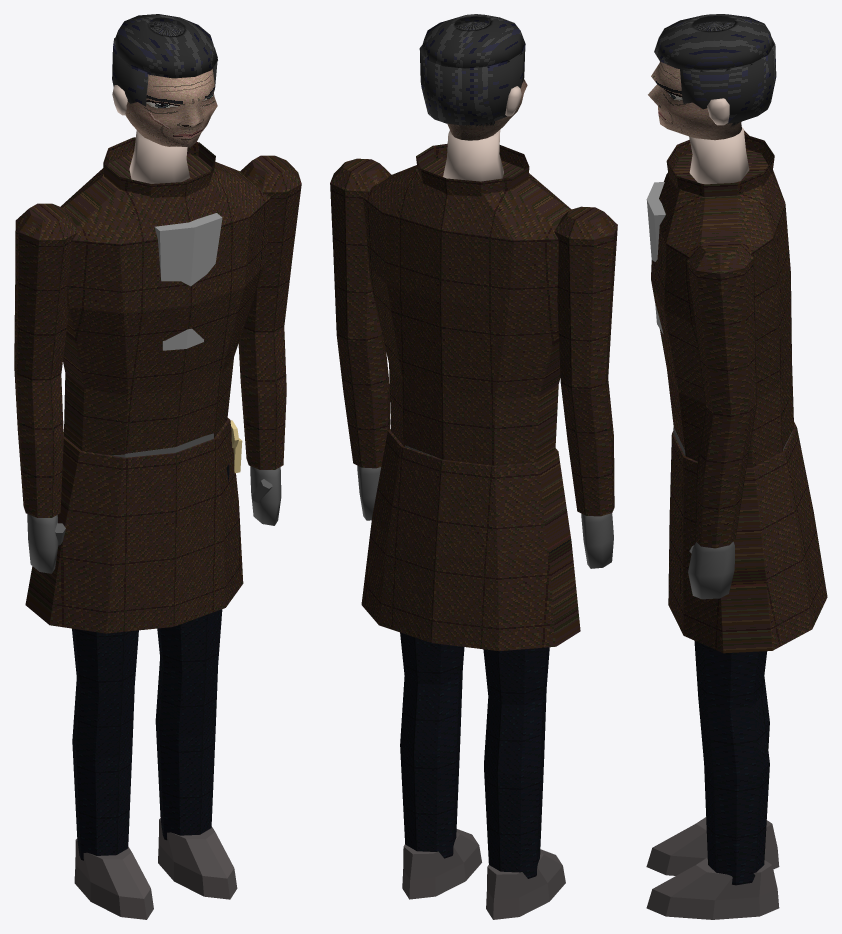
Rendered from char_roman.glb.
The picture shows the model from 3 angles, left to right: view 1: azimuth 30°, elevation 25°; view 2: azimuth 150°, elevation 25°; view 3: azimuth 270°, elevation 25°; orthographic projection.
Parts seen in each view (by area): view 1: JacketTorso, CoatSkirt, ArmSleeve_L, LegL_Pivot_Leg, LegR_Pivot_Leg, ArmSleeve_R, OrganicHeadMesh, HairCroppedCrown, ShirtCollar, LegL_Pivot_Boot, LegR_Pivot_Boot, JacketCollarRim (+4 smaller); view 2: JacketTorso, CoatSkirt, ArmSleeve_L, LegL_Pivot_Leg, ArmSleeve_R, LegR_Pivot_Leg, HairCroppedSides, HairCroppedCrown, LegR_Pivot_Boot, LegL_Pivot_Boot, JacketCollarRim, NeckOrganic (+3 smaller); view 3: JacketTorso, CoatSkirt, ArmSleeve_R, LegR_Pivot_Leg, LegR_Pivot_Boot, HairCroppedCrown, HairCroppedSides, OrganicHeadMesh, LegL_Pivot_Boot, NeckOrganic, Hand_R, JacketCollarRim (+2 smaller).
Part boxes in pixels (left/top/right/bottom): JacketTorso: left=60, top=153, right=270, bottom=455; CoatSkirt: left=25, top=418, right=243, bottom=633; ArmSleeve_L: left=14, top=203, right=77, bottom=517; LegL_Pivot_Leg: left=72, top=628, right=138, bottom=860; LegR_Pivot_Leg: left=155, top=464, right=229, bottom=840; ArmSleeve_R: left=238, top=155, right=301, bottom=469; OrganicHeadMesh: left=125, top=20, right=217, bottom=147; HairCroppedCrown: left=113, top=14, right=217, bottom=78; ShirtCollar: left=154, top=213, right=222, bottom=350; LegL_Pivot_Boot: left=74, top=838, right=153, bottom=919; LegR_Pivot_Boot: left=158, top=818, right=237, bottom=899; JacketCollarRim: left=103, top=137, right=215, bottom=197; JacketTorso: left=363, top=158, right=571, bottom=465; CoatSkirt: left=361, top=429, right=580, bottom=651; ArmSleeve_L: left=554, top=206, right=617, bottom=516; LegL_Pivot_Leg: left=483, top=647, right=549, bottom=878; ArmSleeve_R: left=330, top=158, right=391, bottom=468; LegR_Pivot_Leg: left=400, top=632, right=464, bottom=858; HairCroppedSides: left=419, top=45, right=525, bottom=125; HairCroppedCrown: left=420, top=14, right=525, bottom=68; LegR_Pivot_Boot: left=402, top=829, right=481, bottom=899; LegL_Pivot_Boot: left=486, top=849, right=565, bottom=919; JacketCollarRim: left=416, top=143, right=529, bottom=196; NeckOrganic: left=443, top=130, right=503, bottom=181; JacketTorso: left=651, top=149, right=793, bottom=467; CoatSkirt: left=668, top=422, right=827, bottom=653; ArmSleeve_R: left=686, top=236, right=756, bottom=548; LegR_Pivot_Leg: left=694, top=640, right=769, bottom=885; LegR_Pivot_Boot: left=646, top=857, right=779, bottom=919; HairCroppedCrown: left=654, top=14, right=773, bottom=71; HairCroppedSides: left=680, top=38, right=776, bottom=123; OrganicHeadMesh: left=648, top=21, right=741, bottom=140; LegL_Pivot_Boot: left=646, top=817, right=779, bottom=875; NeckOrganic: left=689, top=127, right=749, bottom=184; Hand_R: left=688, top=541, right=734, bottom=599; JacketCollarRim: left=666, top=134, right=774, bottom=197.
Bounding box in the file's own units: 0.6532 × 1.92 × 0.3613.
Materials: 9 (4 with a texture image).
